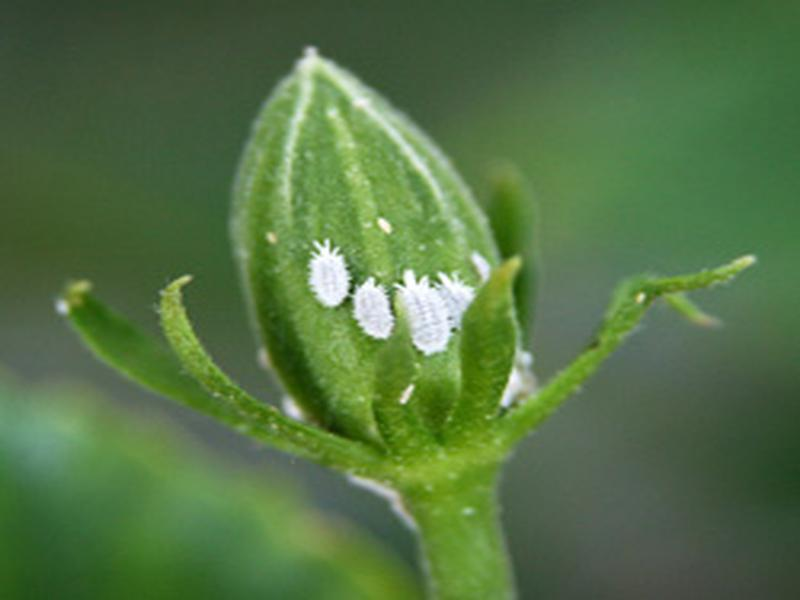Mealy_bug: (276, 215, 554, 396)
